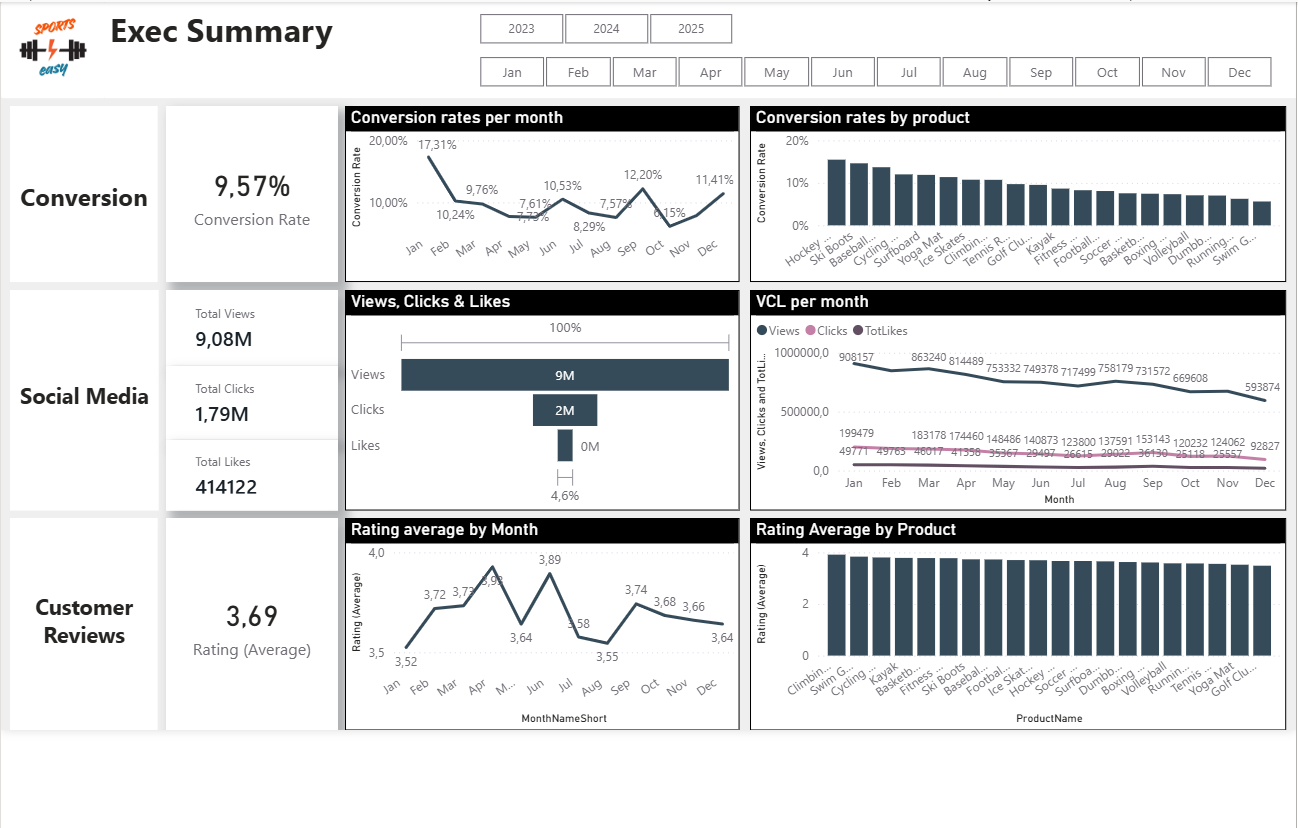

This screenshot's page, from the dashboard's own definition file:
{"tool":"powerbi","page":{"name":"Executive Summary ","canvas":[1280,720],"ordinal":0},"visuals":[{"type":"image","box":[0,0,102.8,94.9],"z":0},{"type":"textbox","box":[102.8,0,1177.2,94.9],"z":1000},{"type":"slicer","fields":{"Values":["Calendar.Year"]},"box":[447.8,4.9,299.5,42.5],"z":2000},{"type":"slicer","fields":{"Values":["Calendar.MonthNameShort"]},"box":[447.8,47.4,832.2,43.5],"z":3000},{"type":"textbox","box":[8.9,102.8,146.3,174],"z":4000},{"type":"textbox","box":[8.9,284.7,147.3,218.4],"z":5000},{"type":"textbox","box":[8.9,510,146.3,209.5],"z":6000},{"type":"card","fields":{"Values":["fact_customer_journey.Conversion Rate"]},"box":[163.1,102.8,170,174],"z":7000},{"type":"cardVisual","fields":{"Data":["fact_engagement_data.TotViews"]},"box":[163.1,284.7,170,75.1],"z":8000},{"type":"cardVisual","fields":{"Data":["fact_engagement_data.TotClicks"]},"box":[163.1,359.8,170,73.1],"z":9000},{"type":"cardVisual","fields":{"Data":["fact_engagement_data.TotLikes"]},"box":[163.1,432.9,170,70.2],"z":10000},{"type":"card","fields":{"Values":["fact_customer_reviews_with_sentiment.Rating (Average)"]},"box":[163.1,510,170,209.5],"z":11000},{"type":"lineChart","title":"Conversion rates per month","fields":{"Category":["Calendar.MonthNameShort"],"Y":["fact_customer_journey.Conversion Rate"]},"box":[340,102.8,390.4,174],"z":12000},{"type":"columnChart","title":"Conversion rates by product","fields":{"Y":["fact_customer_journey.Conversion Rate"],"Category":["dim_products.ProductName"]},"box":[740.3,102.8,529.8,174],"z":13000},{"type":"funnel","title":"Views, Clicks & Likes","fields":{"Y":["fact_engagement_data.TotViews","fact_engagement_data.TotClicks","fact_engagement_data.TotLikes"]},"box":[340,284.7,390.4,218.4],"z":14000},{"type":"lineChart","title":"VCL per month ","fields":{"Category":["Calendar.MonthNameShort"],"Y":["fact_engagement_data.TotViews","fact_engagement_data.TotClicks","fact_engagement_data.TotLikes"]},"box":[740.3,284.7,529.8,218.4],"z":15000},{"type":"lineChart","title":"Rating average by Month ","fields":{"Category":["Calendar.MonthNameShort"],"Y":["fact_customer_reviews_with_sentiment.Rating (Average)"]},"box":[340,510,390.4,209.5],"z":16000},{"type":"columnChart","title":"Rating Average by Product","fields":{"Category":["dim_products.ProductName"],"Y":["fact_customer_reviews_with_sentiment.Rating (Average)"]},"box":[740,510,530,210],"z":17000}]}

Visuals, with their boxes on the page's 1280x720 design canvas (x1, y1, x2, y2). These are canvas units, not pixel positions in the 1298x828 screenshot, which may show the page scaled, cropped or inside an application window:
image: x1=0 y1=0 x2=103 y2=95
textbox: x1=103 y1=0 x2=1280 y2=95
slicer - Calendar.Year: x1=448 y1=5 x2=747 y2=47
slicer - Calendar.MonthNameShort: x1=448 y1=47 x2=1280 y2=91
textbox: x1=9 y1=103 x2=155 y2=277
textbox: x1=9 y1=285 x2=156 y2=503
textbox: x1=9 y1=510 x2=155 y2=720
card - fact_customer_journey.Conversion Rate: x1=163 y1=103 x2=333 y2=277
cardVisual - fact_engagement_data.TotViews: x1=163 y1=285 x2=333 y2=360
cardVisual - fact_engagement_data.TotClicks: x1=163 y1=360 x2=333 y2=433
cardVisual - fact_engagement_data.TotLikes: x1=163 y1=433 x2=333 y2=503
card - fact_customer_reviews_with_sentiment.Rating (Average): x1=163 y1=510 x2=333 y2=720
"Conversion rates per month" lineChart: x1=340 y1=103 x2=730 y2=277
"Conversion rates by product" columnChart: x1=740 y1=103 x2=1270 y2=277
"Views, Clicks & Likes" funnel: x1=340 y1=285 x2=730 y2=503
"VCL per month " lineChart: x1=740 y1=285 x2=1270 y2=503
"Rating average by Month " lineChart: x1=340 y1=510 x2=730 y2=720
"Rating Average by Product" columnChart: x1=740 y1=510 x2=1270 y2=720
